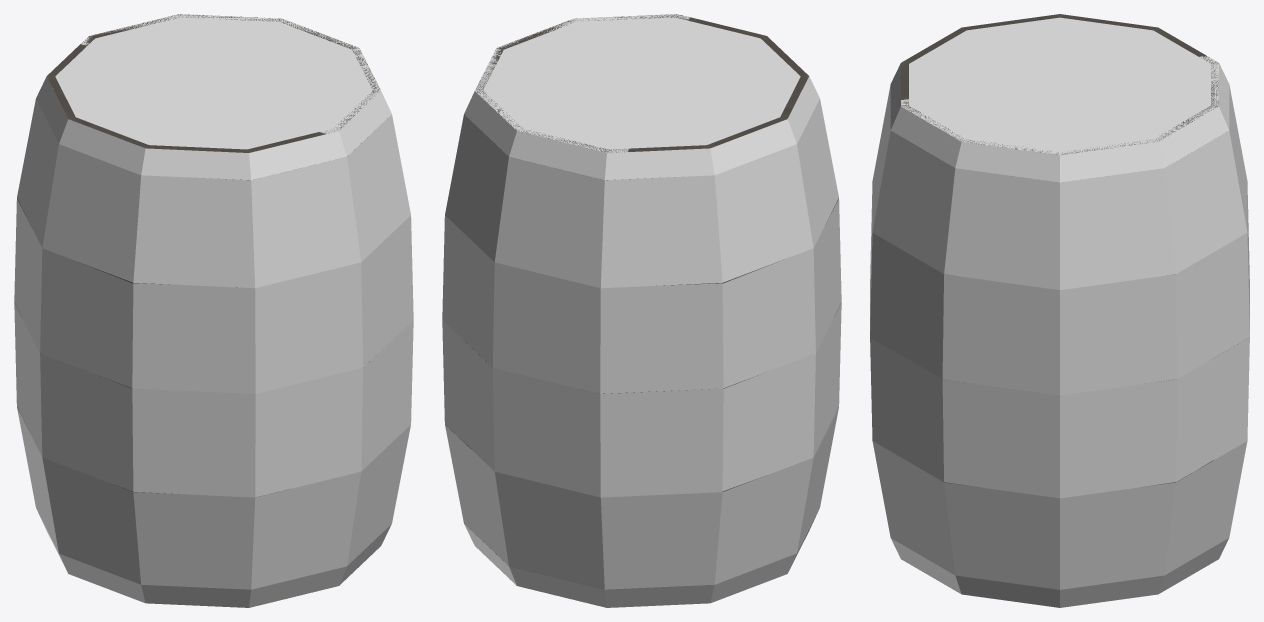
File: barrel.low.webp.glb
The picture shows the model from 3 angles, left to right: view 1: azimuth 30°, elevation 25°; view 2: azimuth 150°, elevation 25°; view 3: azimuth 270°, elevation 25°; orthographic projection.
Visible parts, largest first — view 1: COL, FRAC_5_l1, LOD1_body; view 2: COL, FRAC_5_l1, LOD1_body; view 3: COL, FRAC_5_l1, LOD1_body.
Boxes of the visible parts, left/top/right/bottom form: COL: left=14, top=14, right=413, bottom=607; FRAC_5_l1: left=47, top=44, right=325, bottom=287; LOD1_body: left=82, top=14, right=379, bottom=133; COL: left=442, top=14, right=841, bottom=607; FRAC_5_l1: left=628, top=17, right=808, bottom=179; LOD1_body: left=476, top=14, right=688, bottom=152; COL: left=870, top=17, right=1249, bottom=607; FRAC_5_l1: left=901, top=14, right=1206, bottom=99; LOD1_body: left=901, top=56, right=1218, bottom=154.
Bounding box in the file's own units: 0.8 × 1 × 0.7609.
1 material, 1 textured.
